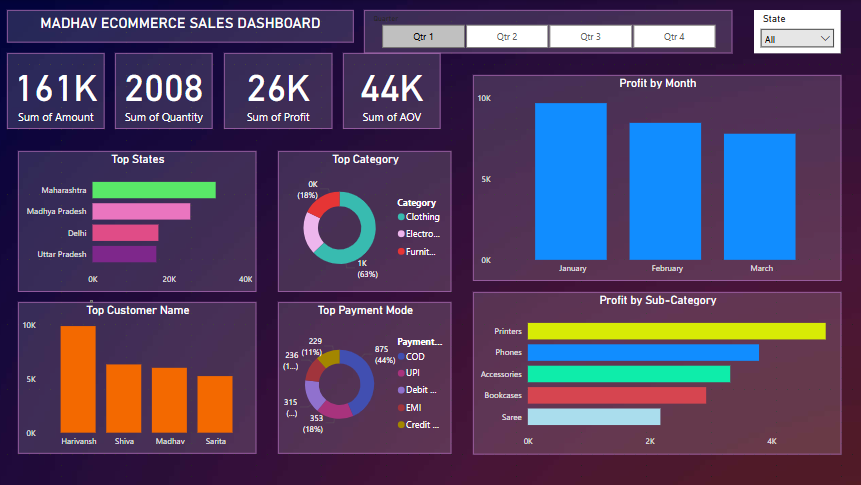

The page's visual inventory and layout, read from the dashboard file:
{"tool":"powerbi","page":{"name":"Page 1","canvas":[1280,720],"ordinal":0},"visuals":[{"type":"textbox","box":[16,16,512,48],"z":0},{"type":"columnChart","title":"Profit by Month","fields":{"Category":["Orders (1).Order Date.Variation.Date Hierarchy.Month"],"Y":["Details.Profit"]},"box":[704,112,544,304],"z":1000},{"type":"barChart","title":"Profit by Sub-Category","fields":{"Category":["Details.Sub-Category"],"Y":["Details.Profit"]},"box":[704,432,544,240],"z":2000},{"type":"donutChart","title":"Top Category","fields":{"Category":["Details.Category"],"Y":["Details.Quantity"]},"box":[416,224,256,208],"z":3000},{"type":"donutChart","title":"Top Payment Mode","fields":{"Category":["Details.PaymentMode"],"Y":["Details.Quantity"]},"box":[416,448,256,224],"z":4000},{"type":"card","fields":{"Values":["Details.Amount"]},"box":[16,80,144,112],"z":5000},{"type":"card","fields":{"Values":["Details.Quantity"]},"box":[176,80,144,112],"z":6000},{"type":"card","fields":{"Values":["Details.Profit"]},"box":[336,80,160,112],"z":7000},{"type":"card","fields":{"Values":["Details.AOV"]},"box":[512,80,144,112],"z":8000},{"type":"barChart","title":"Top States","fields":{"Category":["Orders (1).State"],"Y":["Details.Amount"]},"box":[32,224,352,208],"z":9000},{"type":"columnChart","title":"Top Customer Name","fields":{"Category":["Orders (1).CustomerName"],"Y":["Details.Amount"]},"box":[32,448,352,224],"z":9001},{"type":"slicer","fields":{"Values":["Orders (1).Order Date.Variation.Date Hierarchy.Quarter"]},"box":[544,16,544,64],"z":9002},{"type":"slicer","fields":{"Values":["Orders (1).State"]},"box":[1120,16,128,64],"z":9003}]}

Visuals, with their boxes in screenshot pixels (x1, y1, x2, y2), scaled from the page's 1280x720 canvas onto the 861x485 screenshot:
textbox: [11,11,355,43]
"Profit by Month" columnChart: [474,75,839,280]
"Profit by Sub-Category" barChart: [474,291,839,453]
"Top Category" donutChart: [280,151,452,291]
"Top Payment Mode" donutChart: [280,302,452,453]
card - Details.Amount: [11,54,108,129]
card - Details.Quantity: [118,54,215,129]
card - Details.Profit: [226,54,334,129]
card - Details.AOV: [344,54,441,129]
"Top States" barChart: [22,151,258,291]
"Top Customer Name" columnChart: [22,302,258,453]
slicer - Orders (1).Order Date.Variation.Date Hierarchy.Quarter: [366,11,732,54]
slicer - Orders (1).State: [753,11,839,54]
